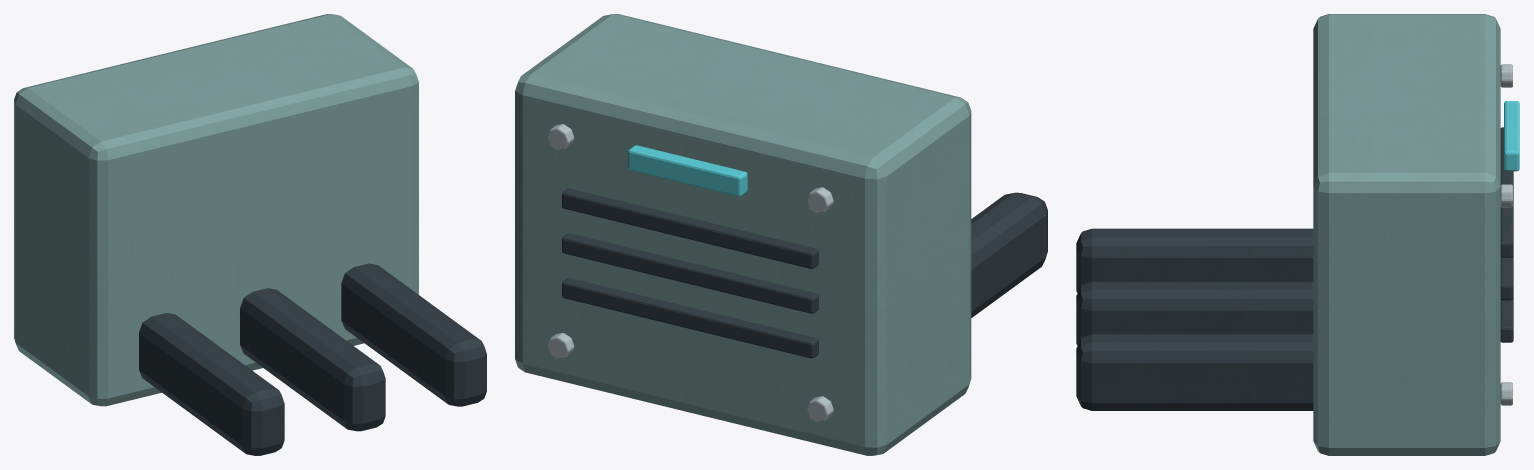
Rendered from cable_junction.glb.
The picture shows the model from 3 angles, left to right: view 1: azimuth 30°, elevation 25°; view 2: azimuth 150°, elevation 25°; view 3: azimuth 270°, elevation 25°; orthographic projection. The views are drawn at different scales.
Visible parts, largest first — view 1: Root; view 2: Root; view 3: Root.
Part boxes in pixels (x1,y1,x2,y2): Root: (14, 14, 486, 455); Root: (515, 14, 1047, 455); Root: (1076, 14, 1519, 455).
Size of the model in its own units: 0.65 by 0.5 by 0.7105.
Materials: 1 (1 with a texture image).
